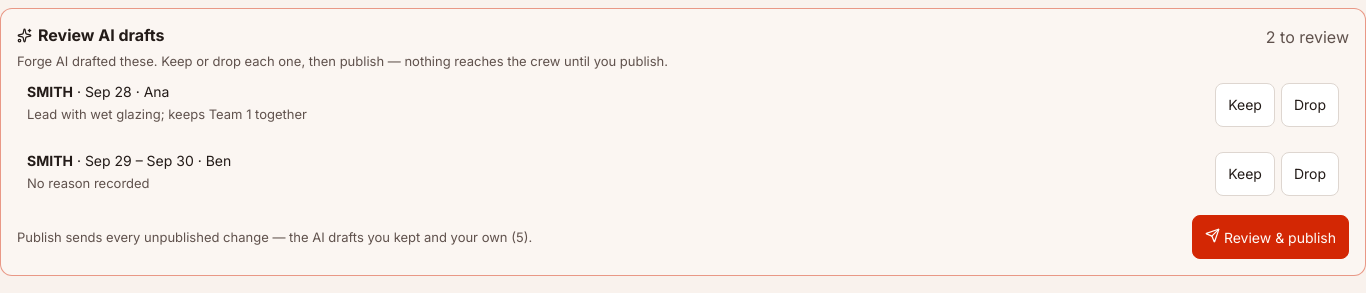
Test: the Review AI drafts card › Review & publish hands off to the page's one publish sheet and says what that sheet sends
Click the button "Review & publish": click(1270, 236) top-left (1192, 214), bottom-right (1349, 258)
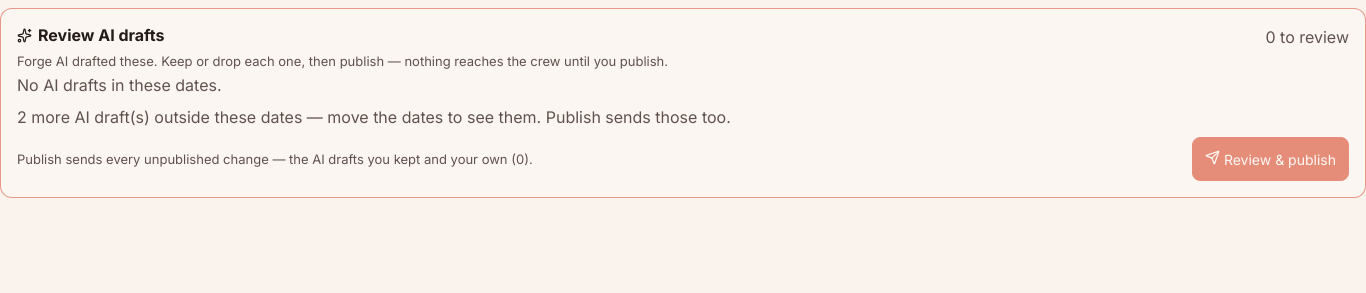
Result: the button "Review & publish" is disabled at top-left (1192, 136), bottom-right (1349, 180)
Result: the text "No AI drafts in these dates." is shown at top-left (17, 74), bottom-right (222, 94)
Result: the text "2 more AI draft(s) outside these dates" is shown at top-left (17, 106), bottom-right (731, 126)
